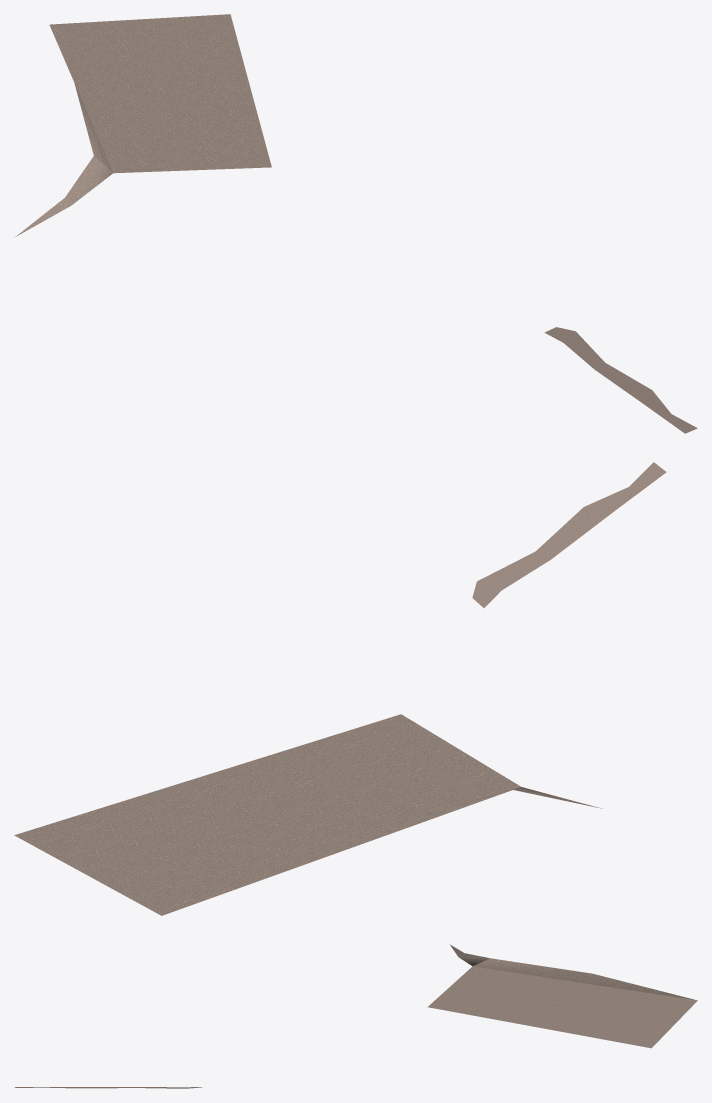
File: kd_stage_1366d7_0_14.glb
3 views of the same model, one above another, from view 1: azimuth 30°, elevation 25°; view 2: azimuth 150°, elevation 25°; view 3: azimuth 270°, elevation 25° (orthographic). The views are drawn at different scales.
Parts seen in each view (by area): view 1: kd_stage_1366d7_0_14; view 2: kd_stage_1366d7_0_14; view 3: kd_stage_1366d7_0_14.
Boxes of the visible parts, x1=… form: kd_stage_1366d7_0_14: x1=15, y1=14, x2=697, y2=433; kd_stage_1366d7_0_14: x1=14, y1=462, x2=666, y2=915; kd_stage_1366d7_0_14: x1=14, y1=944, x2=697, y2=1088.
Size of the model in its own units: 37.98 by 8.08 by 91.45.
1 material, 1 textured.
